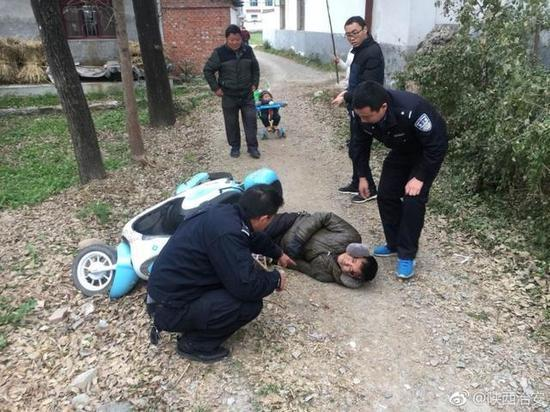Fall-Detected: (242, 197, 382, 290)
